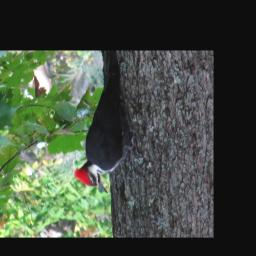Woodpecker: (72, 51, 143, 194)
